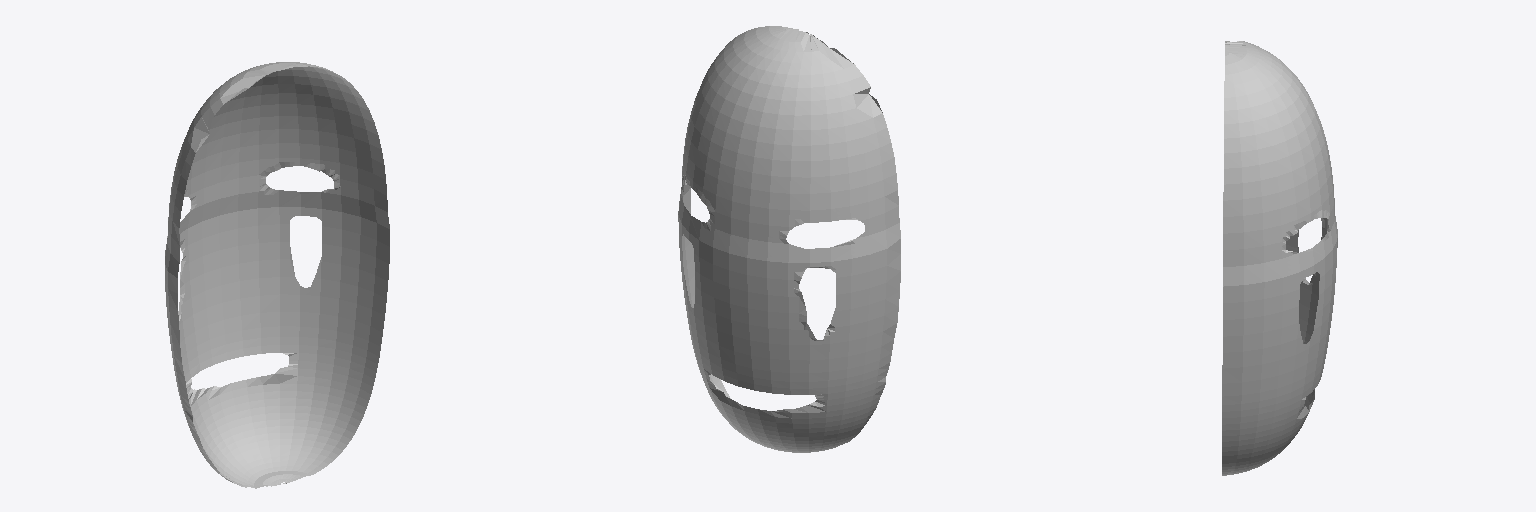
Rendered from mask.obj.
3 renders of one model, left to right at view 1: azimuth 30°, elevation 25°; view 2: azimuth 150°, elevation 25°; view 3: azimuth 270°, elevation 25°, orthographic.
Parts seen in each view (by area): view 1: BezierCircle_Mesh; view 2: BezierCircle_Mesh; view 3: BezierCircle_Mesh.
Boxes of the visible parts, <box> form: BezierCircle_Mesh: <box>165,62,389,488</box>; BezierCircle_Mesh: <box>678,26,900,452</box>; BezierCircle_Mesh: <box>1222,41,1337,475</box>.
Bounding box in the file's own units: 2.05 × 3.83 × 0.9687.